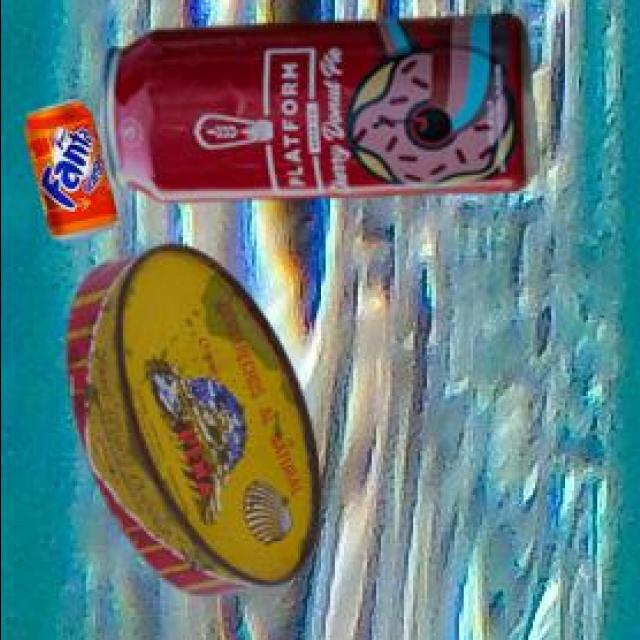logam: (61, 247, 317, 600), (96, 17, 535, 206), (22, 105, 112, 243)
